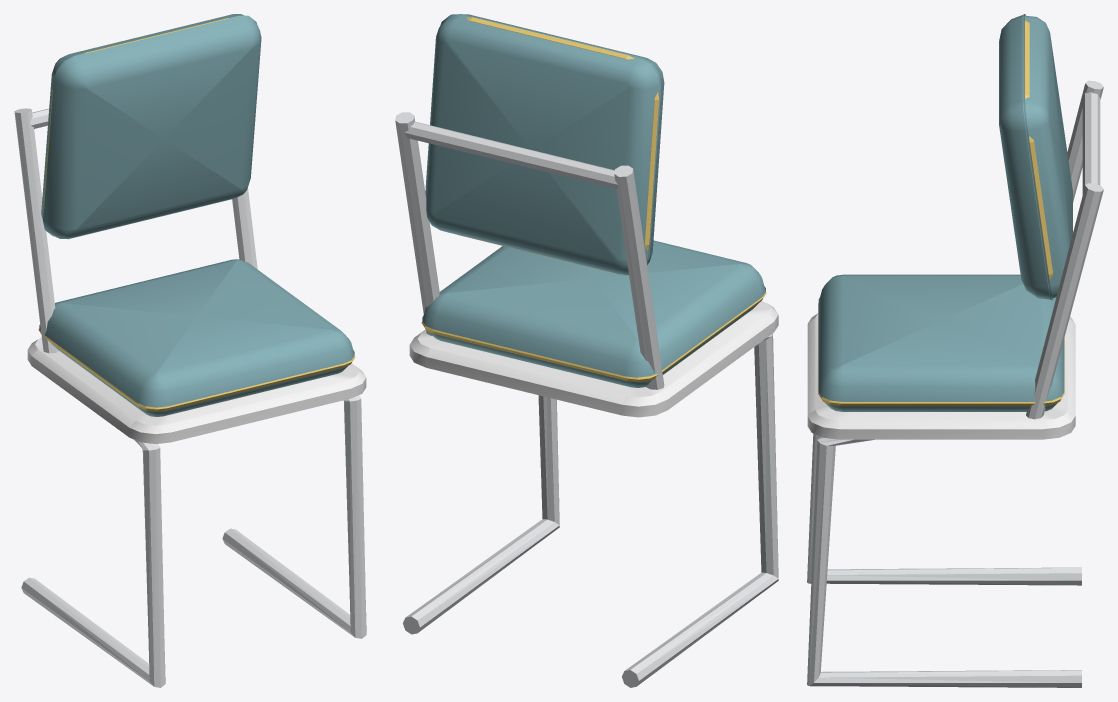
The model's file is clinic-and-veterinary-practice-waiting-side-chair-5250296e__16724.glb.
3 views of the same model, side by side, from view 1: azimuth 30°, elevation 25°; view 2: azimuth 150°, elevation 25°; view 3: azimuth 270°, elevation 25° (orthographic). The views are drawn at different scales.
Visible parts, largest first — view 1: waiting-side-chair; view 2: waiting-side-chair; view 3: waiting-side-chair.
Part boxes in pixels (box(x1,y1,x2,y2)): waiting-side-chair: box(14, 14, 366, 687); waiting-side-chair: box(395, 14, 778, 687); waiting-side-chair: box(807, 14, 1103, 687).
Size of the model in its own units: 0.44 by 1 by 0.4654.
